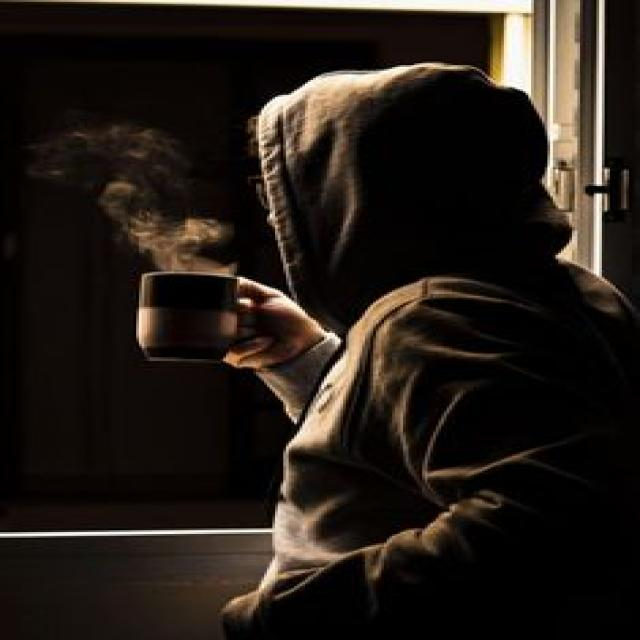4_capucha: (256, 61, 573, 310)
